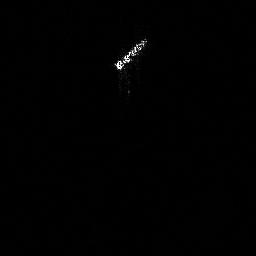ship: (110, 34, 150, 73)
